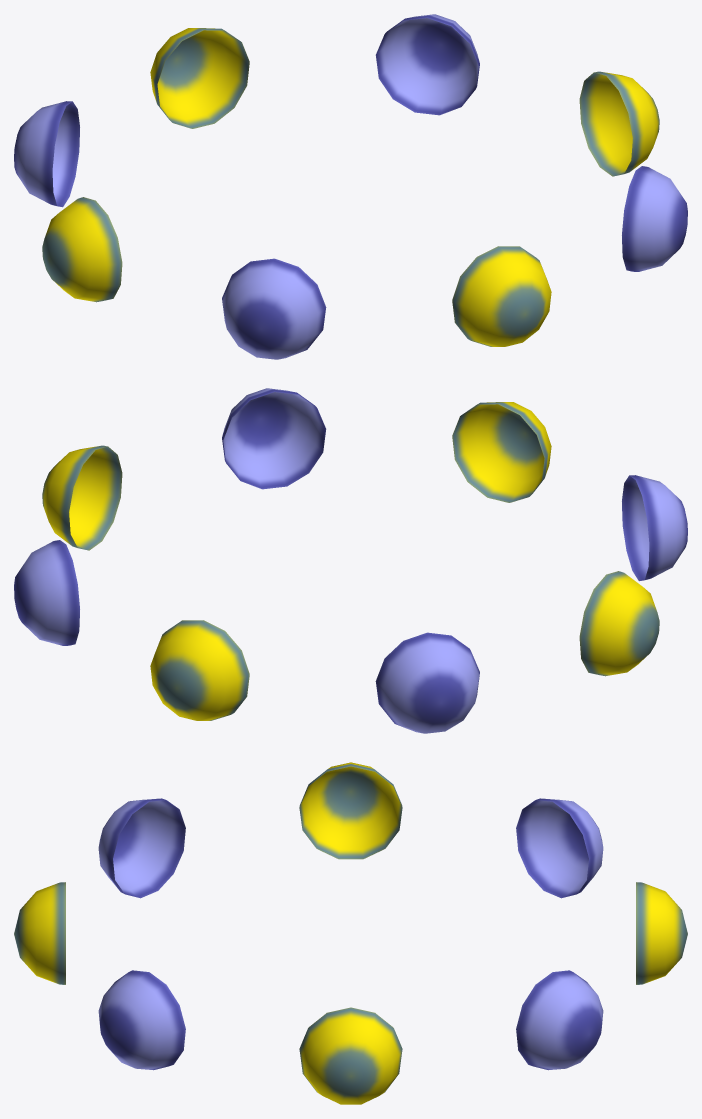
The model's file is TX_qinnv_wuti001.FBX.
3 views of the same model, one above another, from view 1: azimuth 30°, elevation 25°; view 2: azimuth 150°, elevation 25°; view 3: azimuth 270°, elevation 25° (orthographic). The views are drawn at different scales.
Visible parts, largest first — view 1: TX_qinnv_wuti001; view 2: TX_qinnv_wuti001; view 3: TX_qinnv_wuti001.
Boxes of the visible parts, x1,y1,x2,y2 form: TX_qinnv_wuti001: (14, 14, 687, 359); TX_qinnv_wuti001: (14, 388, 687, 733); TX_qinnv_wuti001: (14, 762, 687, 1104).
Size of the model in its own units: 220 by 33.51 by 220.
